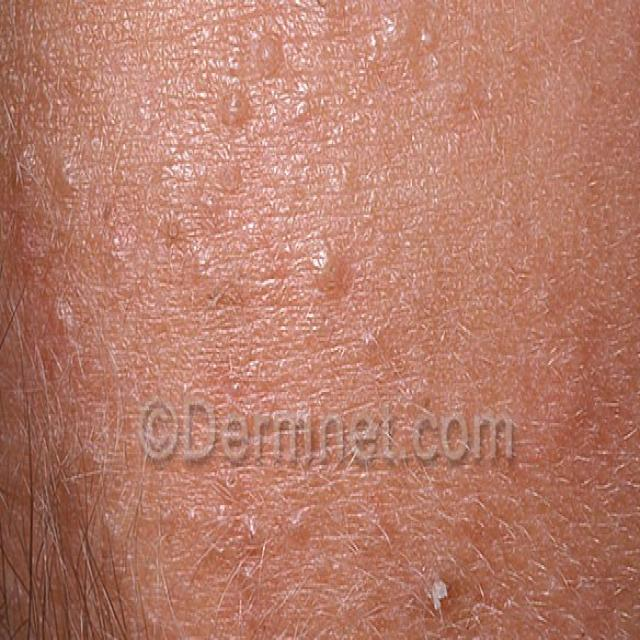Acne: (204, 462, 321, 570), (20, 228, 94, 392), (303, 229, 385, 372), (207, 57, 272, 150), (417, 530, 464, 640)
